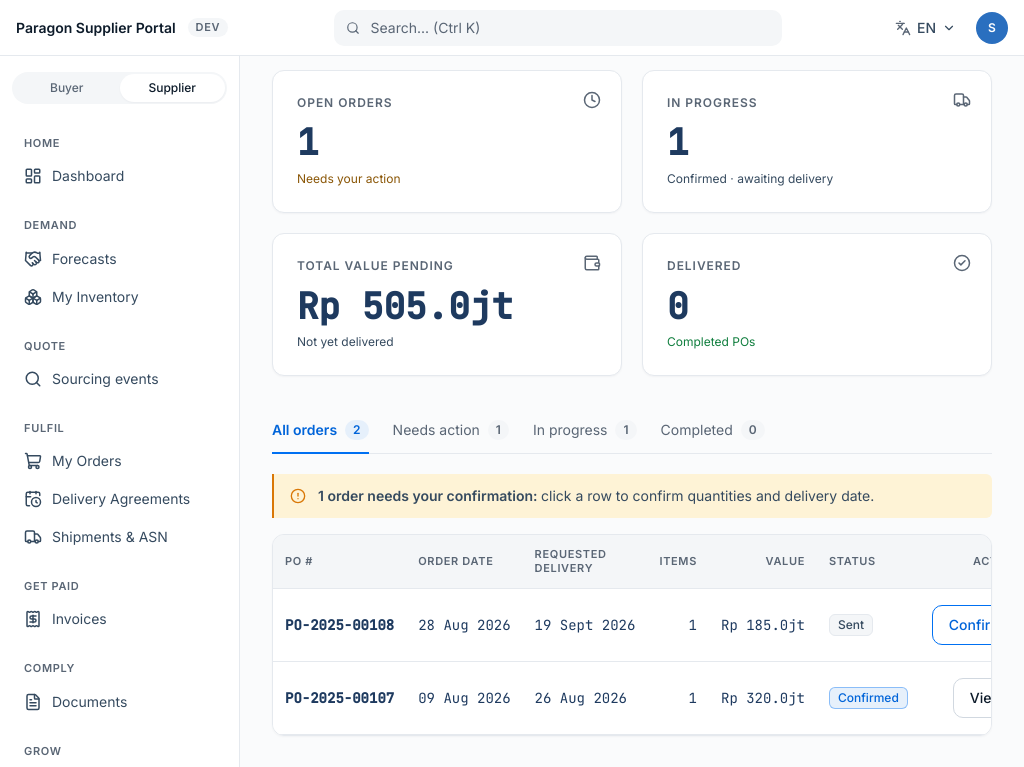
Test: E2E-2 · the receipt arriving is what changes the page — nothing else › posting a receipt for everything owed removes the offer and shows the receipt
(page scrolled)
Click the text "PO-2025-00107" at (340, 698), box [285, 689, 394, 707]
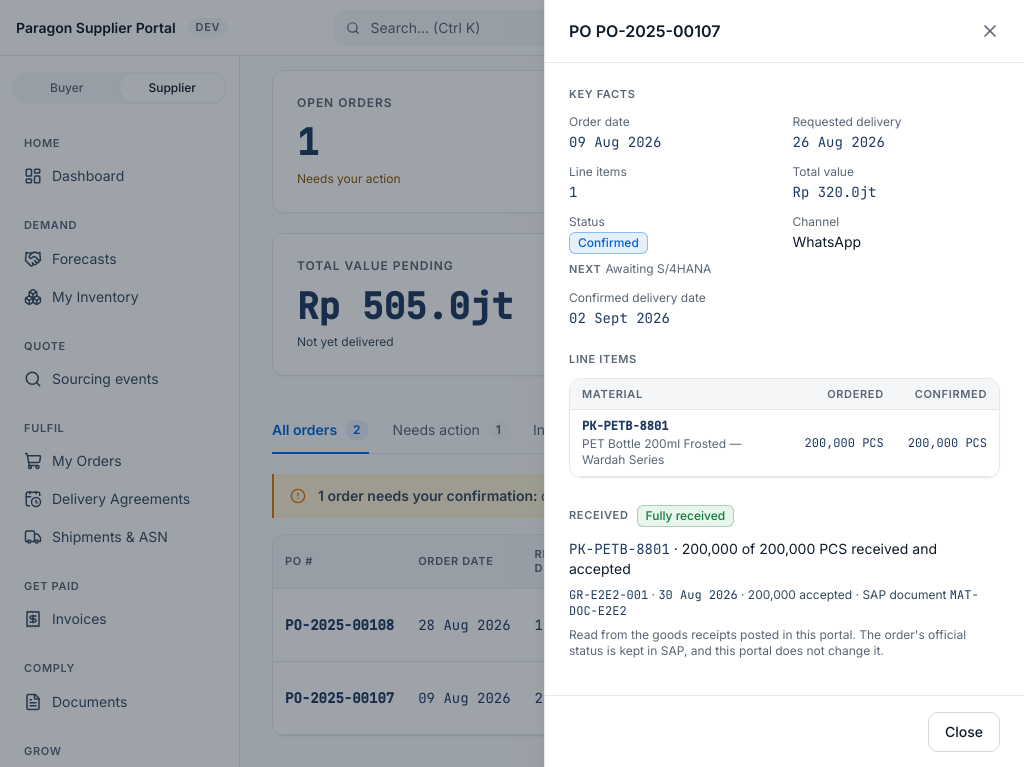
Expected: the text "Confirmed" below "19 Sept 2026" is shown, [838, 690, 899, 705]
Expected: the element with test id "supplier-order-received-full" is shown, [636, 502, 734, 527]
Expected: the list item with test id "supplier-order-received-receipt-GR-E2E2-001" shows "MAT-DOC-E2E2", [569, 587, 979, 619]
